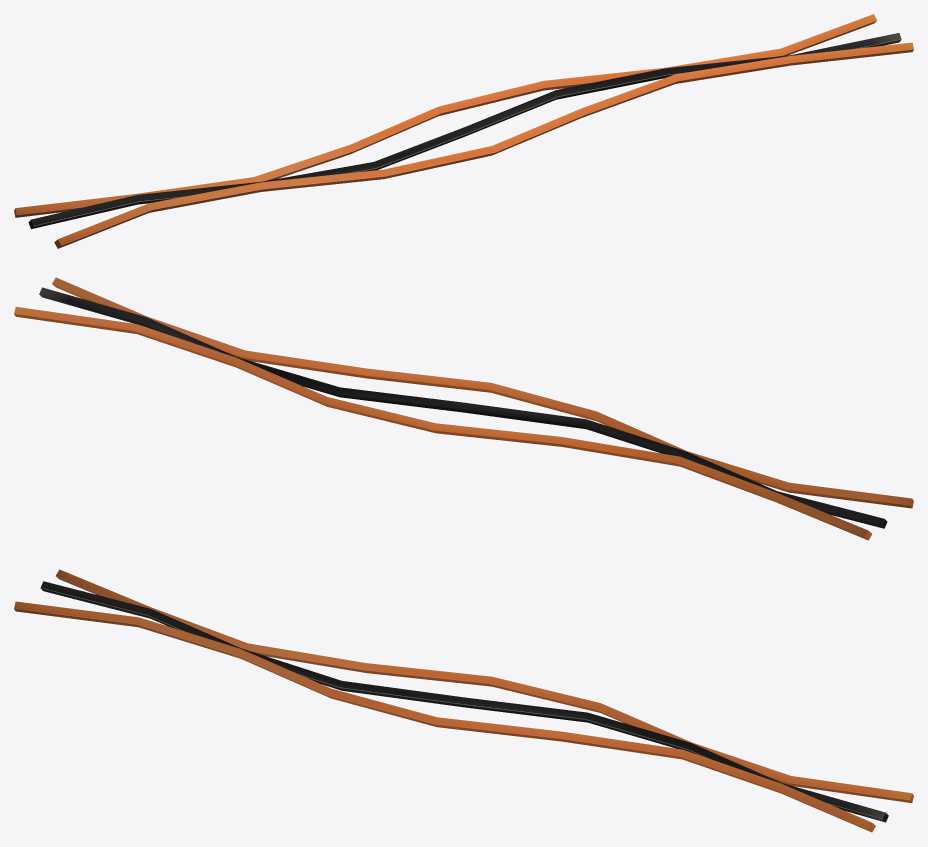
Rendered from cable_run.obj.
3 renders of one model, top to bottom at view 1: azimuth 30°, elevation 25°; view 2: azimuth 150°, elevation 25°; view 3: azimuth 330°, elevation 25°, orthographic. The views are drawn at different scales.
Visible parts, largest first — view 1: cable_run; view 2: cable_run; view 3: cable_run.
Part boxes in pixels (bbox=[...]): cable_run: bbox=[14, 14, 913, 248]; cable_run: bbox=[14, 277, 913, 540]; cable_run: bbox=[14, 569, 913, 832].
Bounding box in the file's own units: 4.01 × 0.044 × 0.4983.
1 material, 1 textured.
